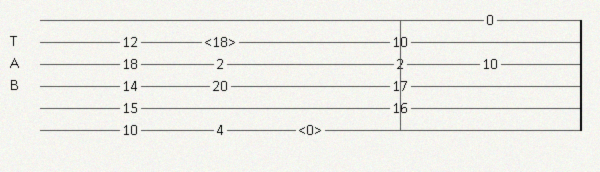0: (486, 13, 498, 27)
10: (122, 123, 142, 137), (392, 35, 412, 49), (482, 57, 502, 71)
12: (122, 35, 142, 49)
14: (122, 79, 142, 93)
15: (122, 101, 142, 115)
16: (392, 101, 412, 115)
17: (392, 79, 412, 93)
18: (122, 57, 142, 71)
2: (216, 57, 228, 71), (396, 57, 408, 71)
20: (212, 79, 232, 93)
4: (216, 123, 228, 137)
harmonic: (204, 35, 240, 49), (298, 123, 326, 137)
